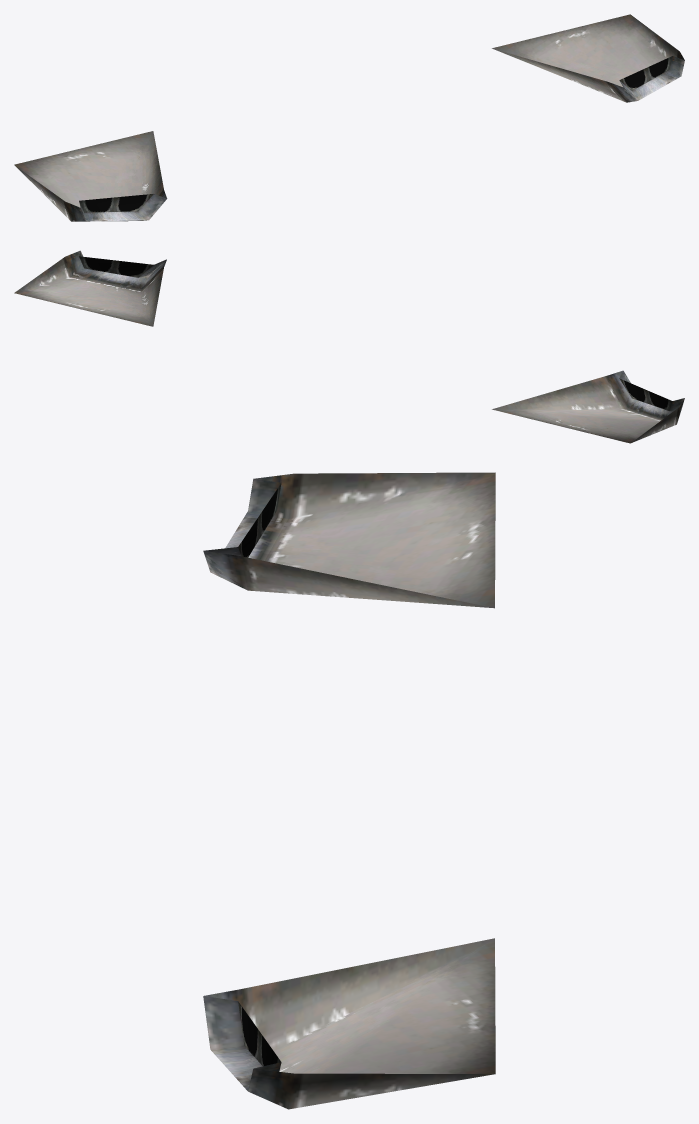
File: hutt_fighter_heavy_missile_pod_s02_l1.fbx
The picture shows the model from 3 angles, top to bottom: view 1: azimuth 30°, elevation 25°; view 2: azimuth 150°, elevation 25°; view 3: azimuth 270°, elevation 25°; orthographic projection. The views are drawn at different scales.
Parts seen in each view (by area): view 1: mesh_node; view 2: mesh_node; view 3: mesh_node.
Boxes of the visible parts, left/top/right/bottom form: mesh_node: left=14, top=14, right=684, bottom=221; mesh_node: left=14, top=250, right=684, bottom=443; mesh_node: left=203, top=472, right=495, bottom=1109.
Bounding box in the file's own units: 17.01 × 0.7226 × 3.5.
1 material, 1 textured.
